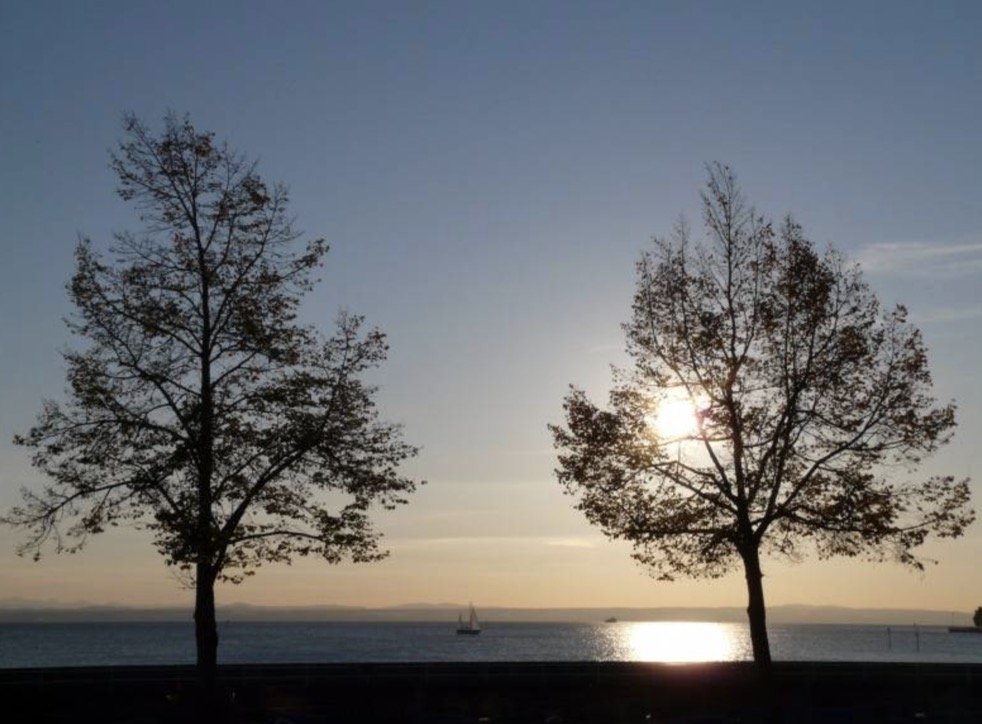tree: (1, 102, 429, 664), (545, 158, 978, 662)
